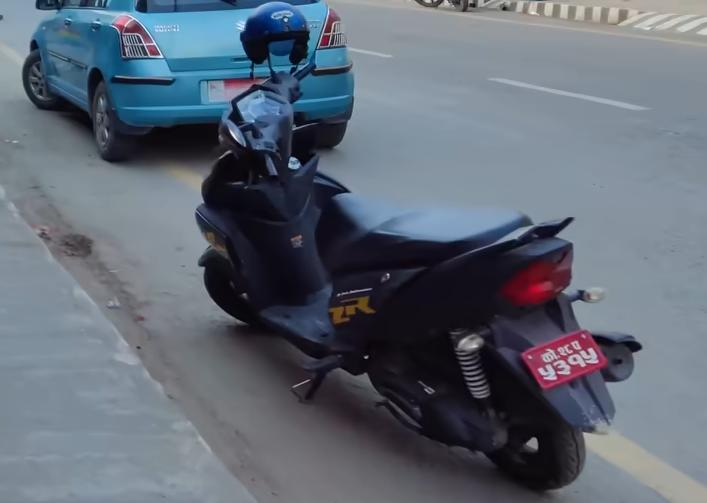car: (18, 0, 363, 158)
scooter: (189, 59, 640, 492)
